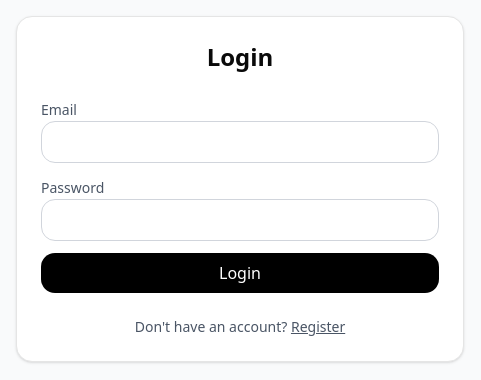
Scenario: LoginPage › disables button and shows loading text while submitting
Type "test@example.com" into the field labelled "Email". click: (240, 142)
box: top-left (41, 121), bottom-right (439, 163)
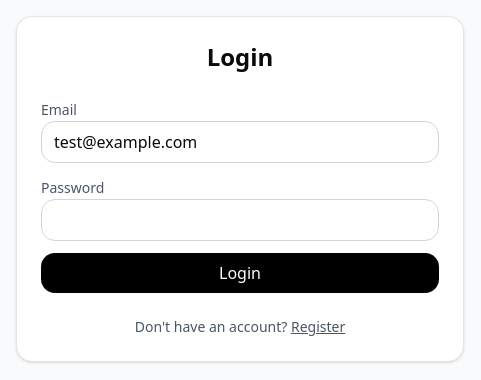
Type "password" into the password field labelled "Password". click: (240, 220)
box: top-left (41, 199), bottom-right (439, 241)
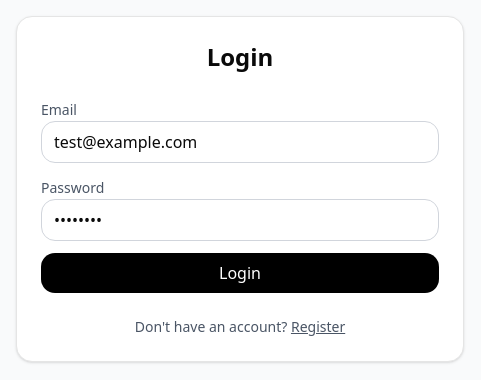
Click the button "Login". click: (240, 273)
box: top-left (41, 253), bottom-right (439, 293)
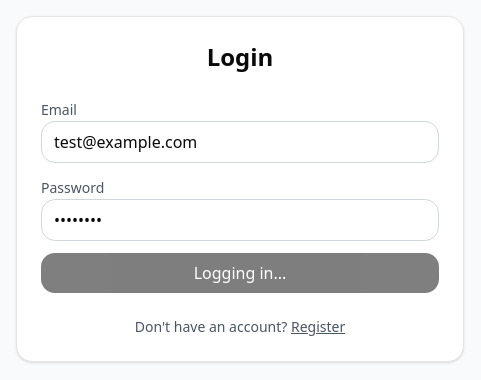
Now the button is disabled, box top-left (41, 253), bottom-right (439, 293)
Now the button shows "Logging in", box top-left (41, 253), bottom-right (439, 293)
